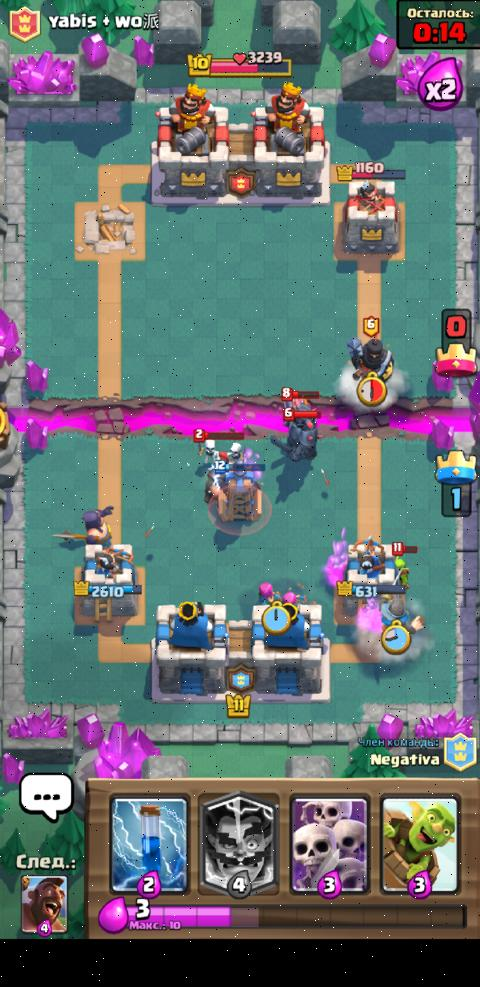EBigPekka: (283, 401, 318, 461)
EDarkPrince: (347, 338, 393, 382)
EGoblin: (395, 555, 408, 589)
EKingTower: (152, 84, 227, 199), (251, 82, 324, 198)
ELarry: (193, 429, 217, 466), (228, 434, 243, 463)
EnemyPrincessTower: (343, 163, 398, 254)
OArcher: (259, 582, 279, 603), (282, 589, 305, 602)
OEx: (83, 506, 111, 545)
OKnight: (381, 594, 422, 634)
OTesla: (218, 470, 261, 522)
OwnKingTower: (251, 601, 328, 699), (152, 602, 228, 700)
OwnPrincessTower: (74, 544, 142, 623), (346, 536, 397, 599)
TowerDown: (74, 202, 145, 260)
